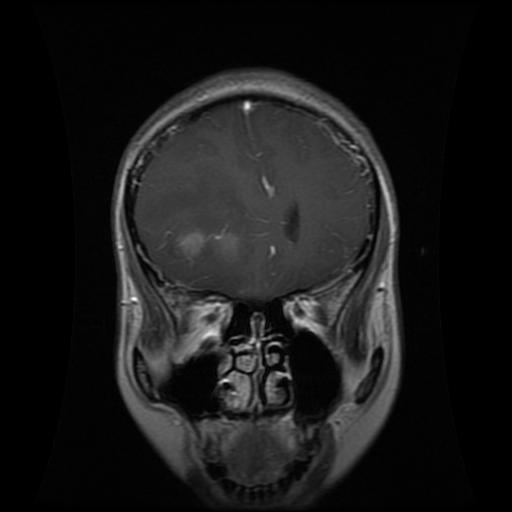Gliomia_tumour: (158, 216, 255, 272)
